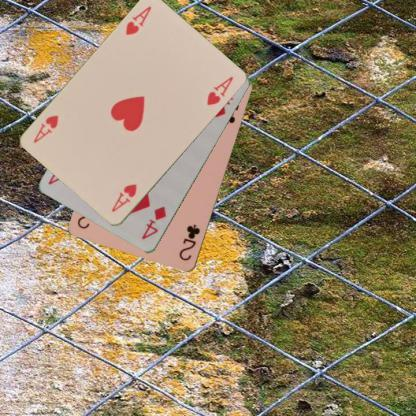2c: (176, 222, 202, 262)
4d: (139, 204, 168, 241)
Ah: (122, 3, 152, 37), (109, 181, 138, 214)
